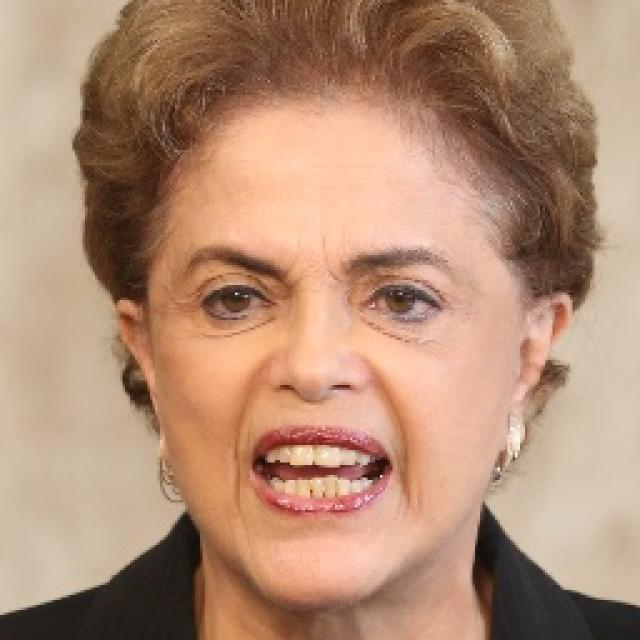earlobe: (502, 390, 538, 454)
eye: (362, 282, 445, 318), (196, 283, 273, 316)
nose: (270, 383, 368, 419)
wholeear: (502, 293, 572, 454), (113, 300, 169, 461)
